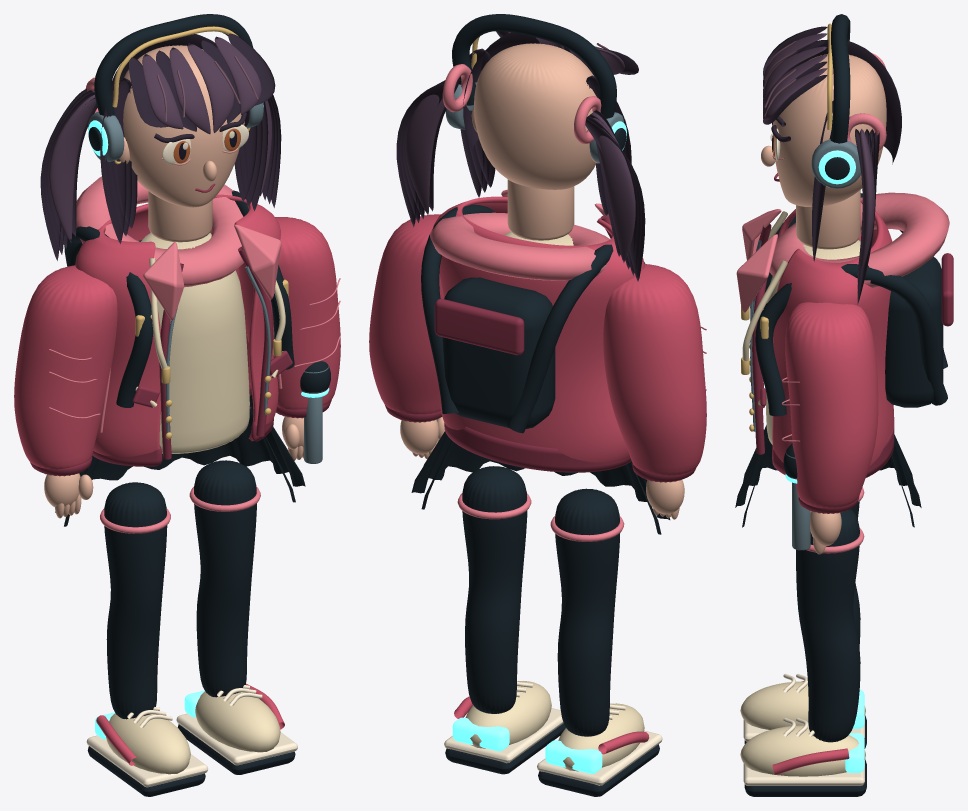
Rendered from kohaku.glb.
3 renders of one model, left to right at view 1: azimuth 30°, elevation 25°; view 2: azimuth 150°, elevation 25°; view 3: azimuth 270°, elevation 25°, orthographic. The views are drawn at different scales.
Parts seen in each view (by area): view 1: body_surface, head_surface, leg_R_surface, leg_L_surface, arm_L_surface, arm_R_surface, pony_L_surface, pony_R_surface; view 2: body_surface, head_surface, leg_R_surface, leg_L_surface, arm_L_surface, arm_R_surface, pony_R_surface, pony_L_surface; view 3: body_surface, arm_R_surface, leg_R_surface, head_surface, leg_L_surface, pony_R_surface.
Boxes of the visible parts, x1,y1,x2,y2 form: body_surface: (55, 176, 305, 526); head_surface: (88, 14, 275, 243); leg_R_surface: (176, 460, 297, 774); leg_L_surface: (86, 482, 207, 796); arm_L_surface: (14, 265, 117, 518); arm_R_surface: (238, 217, 340, 463); pony_L_surface: (40, 77, 98, 260); pony_R_surface: (260, 95, 281, 207); body_surface: (411, 179, 670, 534); head_surface: (445, 14, 638, 218); leg_R_surface: (444, 466, 565, 774); leg_L_surface: (537, 488, 662, 796); arm_L_surface: (603, 264, 706, 519); arm_R_surface: (369, 214, 444, 458); pony_R_surface: (396, 64, 472, 227); pony_L_surface: (574, 96, 645, 281); body_surface: (735, 190, 953, 527); arm_R_surface: (781, 302, 878, 554); leg_R_surface: (740, 509, 866, 796); head_surface: (761, 14, 901, 261); leg_L_surface: (740, 487, 866, 748); pony_R_surface: (847, 113, 886, 304).
Size of the model in its own units: 1.02 by 2.24 by 0.6084.
